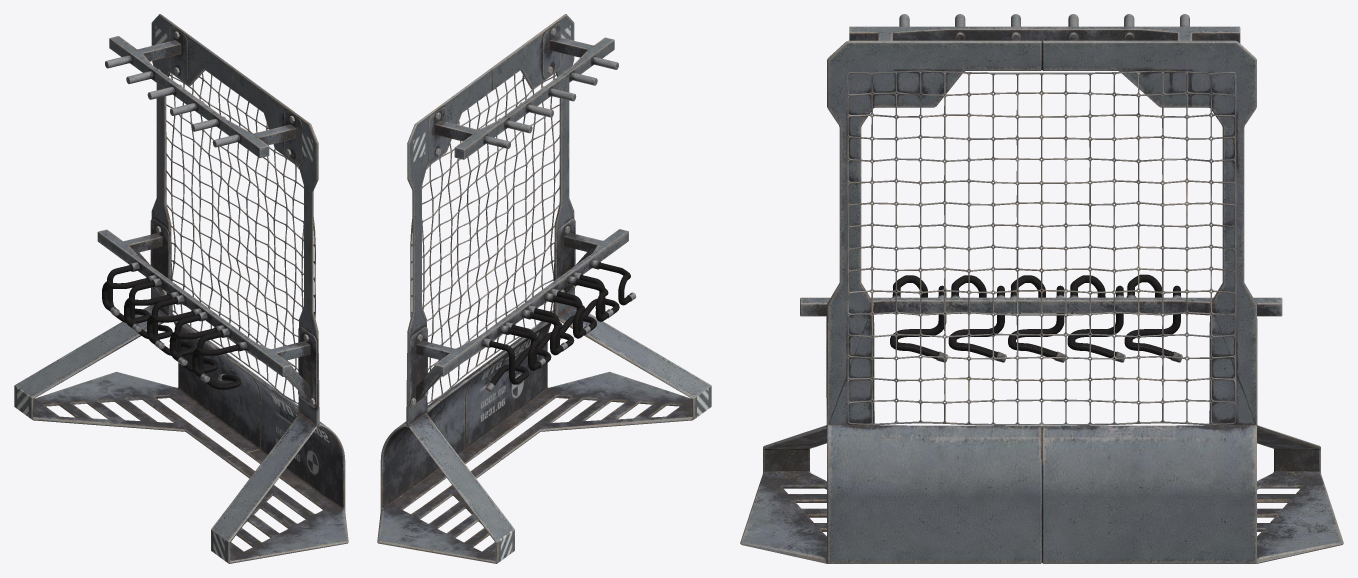
The model's file is gun_rack.fbx.
3 renders of one model, left to right at view 1: azimuth 30°, elevation 25°; view 2: azimuth 150°, elevation 25°; view 3: azimuth 270°, elevation 25°, orthographic. The views are drawn at different scales.
Parts seen in each view (by area): view 1: Gun rack; view 2: Gun rack; view 3: Gun rack.
Boxes of the visible parts, x1,y1,x2,y2 form: Gun rack: (14, 14, 348, 563); Gun rack: (377, 14, 711, 563); Gun rack: (740, 14, 1343, 563).
Size of the model in its own units: 48.1 by 126 by 137.
